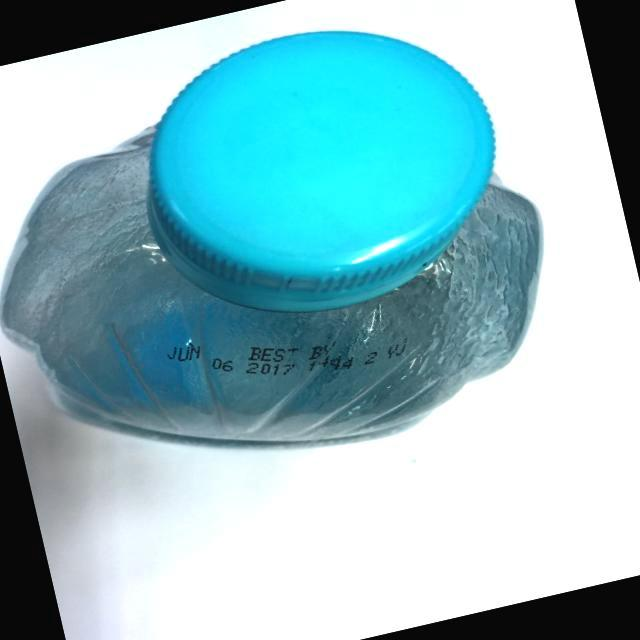plastic: (0, 0, 639, 533)
